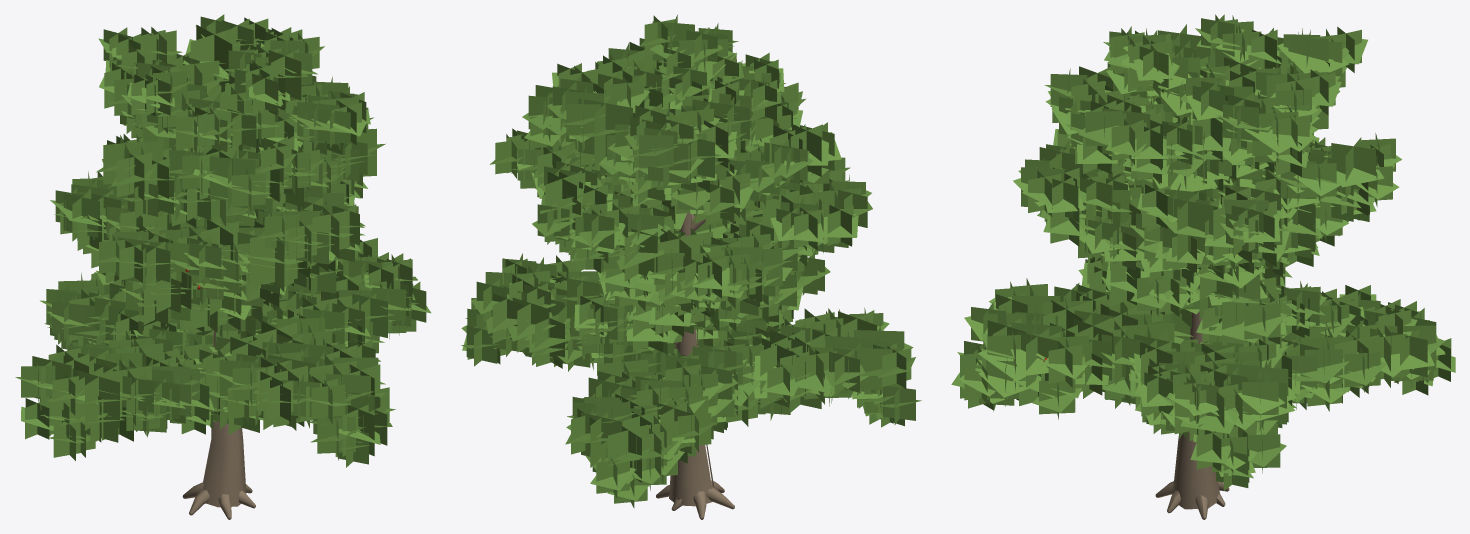
The model's file is pommier_4_jeu.glb.
3 renders of one model, left to right at view 1: azimuth 30°, elevation 25°; view 2: azimuth 150°, elevation 25°; view 3: azimuth 270°, elevation 25°, orthographic. The views are drawn at different scales.
Parts seen in each view (by area): view 1: Pommier_T4_Leger; view 2: Pommier_T4_Leger; view 3: Pommier_T4_Leger.
Boxes of the visible parts, x1,y1,x2,y2 form: Pommier_T4_Leger: (15,14,430,519); Pommier_T4_Leger: (461,14,921,519); Pommier_T4_Leger: (951,14,1455,519).
Bounding box in the file's own units: 8.62 × 8.7 × 8.28.
